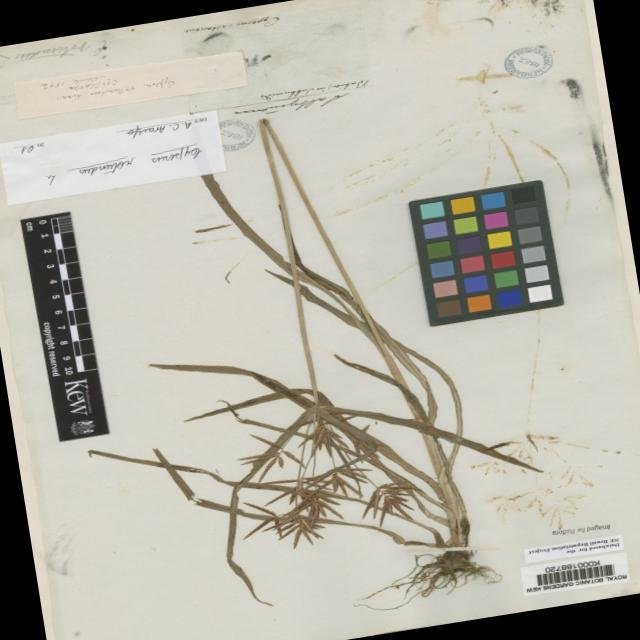cyperus: (222, 408, 386, 558), (246, 474, 358, 554), (357, 476, 424, 532)
